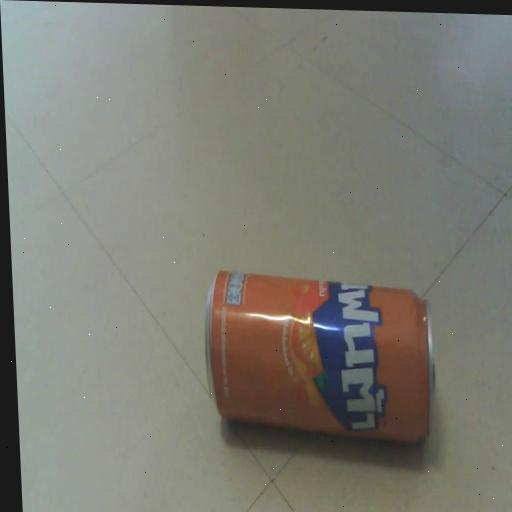canned: (183, 239, 448, 476)
